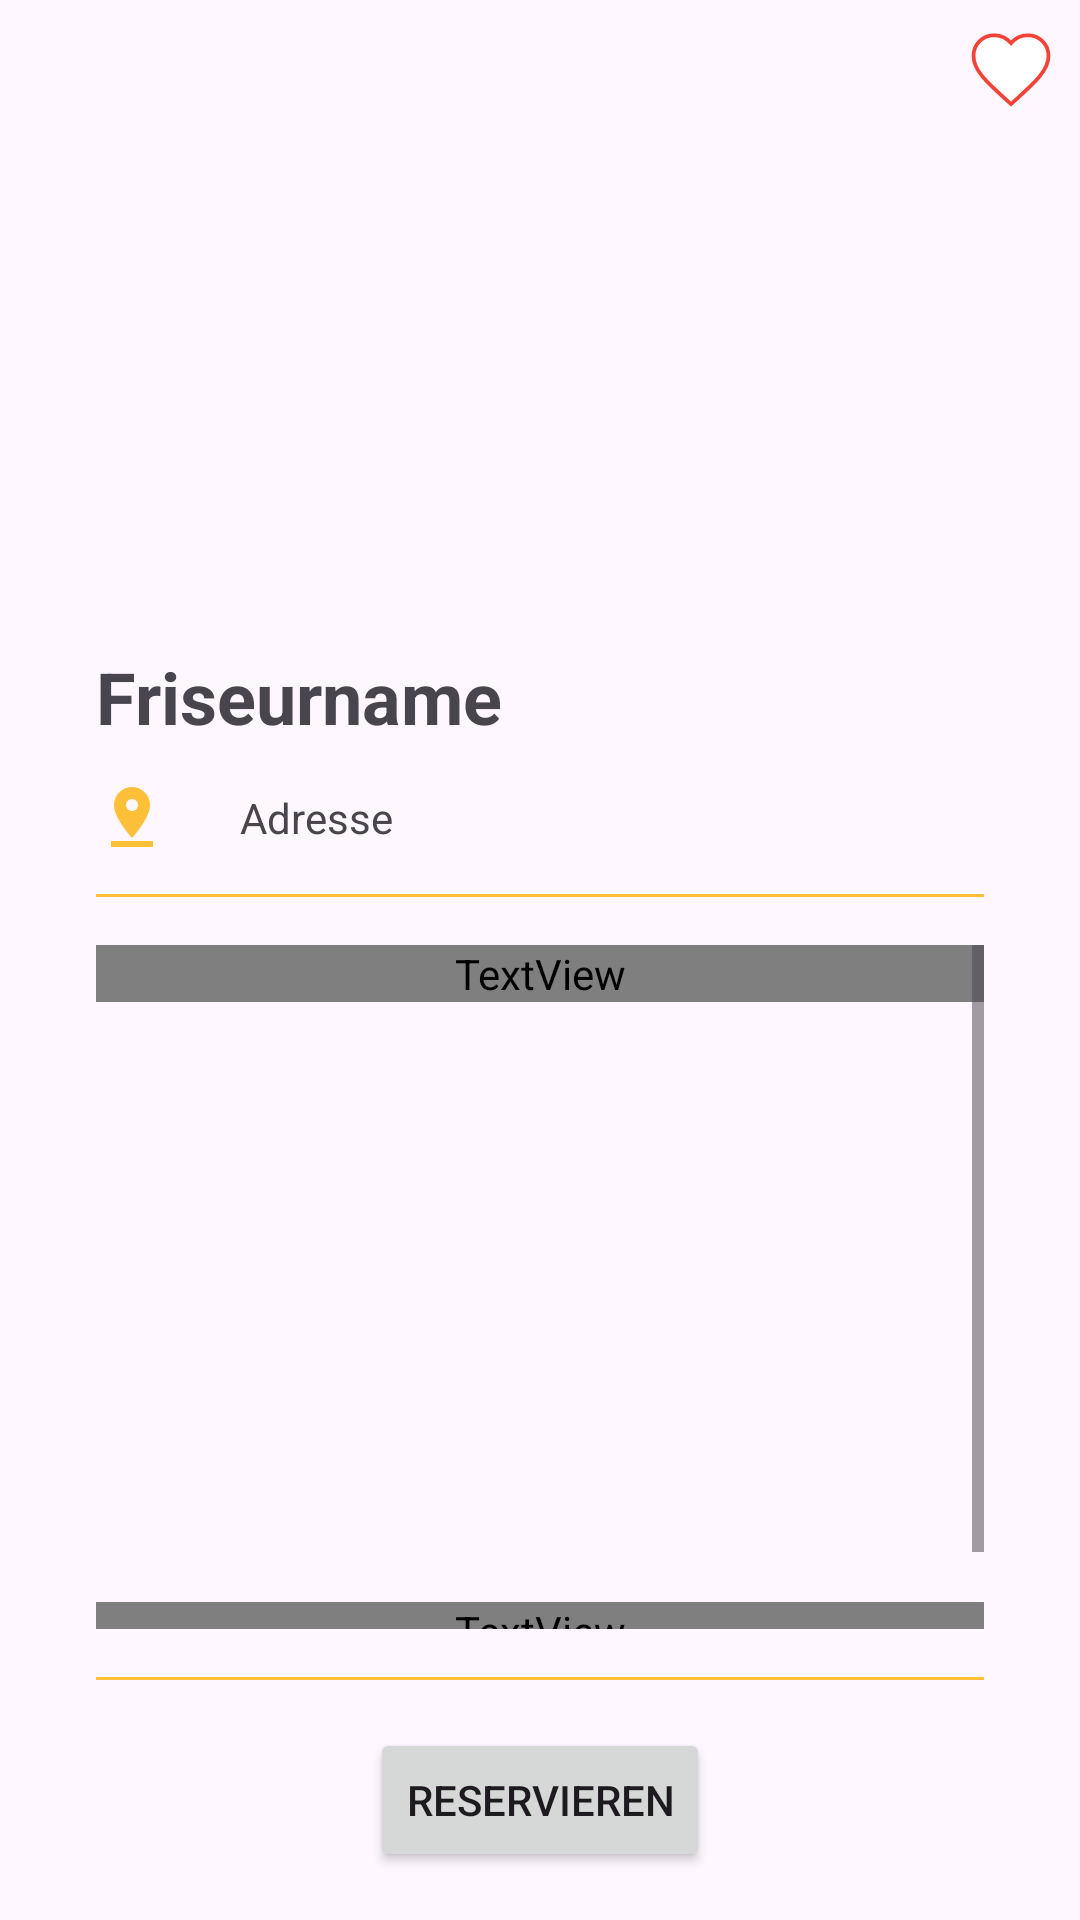

Named icons in this screenshot (1080 × 1920) and their bounding boxes, (x1, y1, x2, y2):
favorite: (971, 33, 1051, 107)
pin drop: (111, 787, 153, 847)
